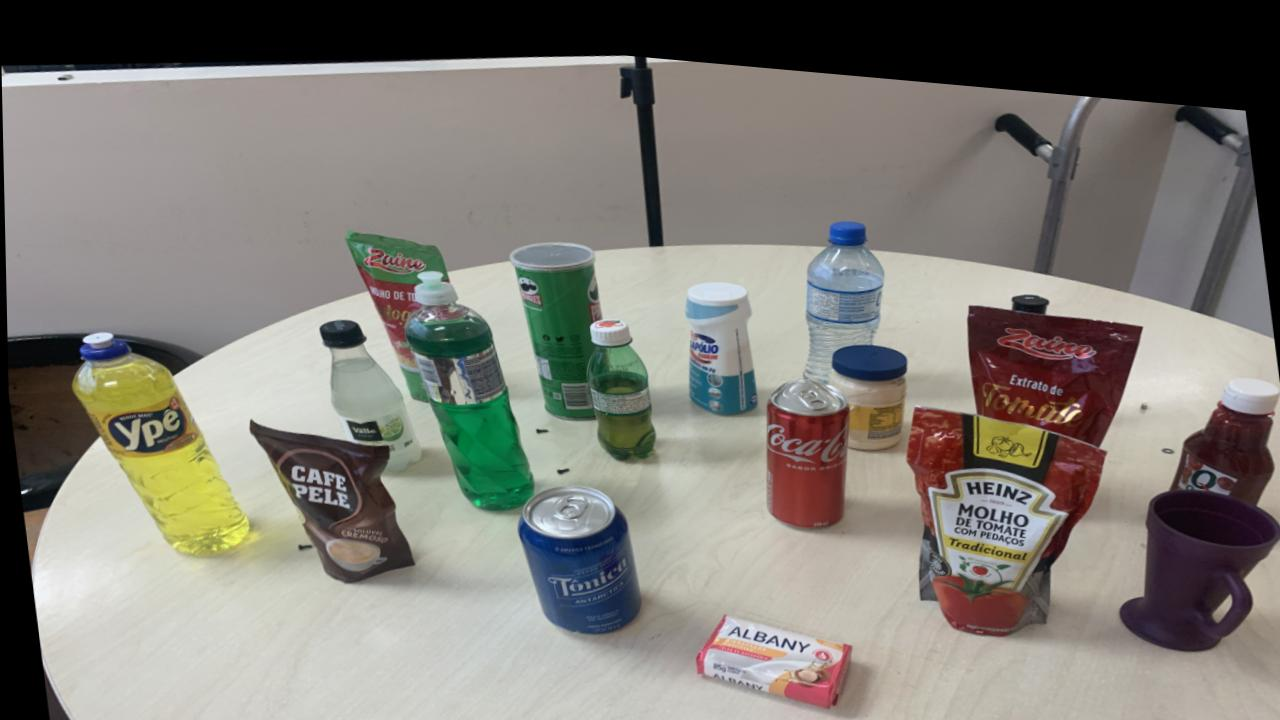Cleaner-Cleanup_Items: (683, 268, 756, 400)
Coffee-Pantry_Items: (247, 417, 410, 576)
Coke-Drinks: (764, 363, 848, 514)
Detergent-Cleanup_Items: (70, 333, 247, 549), (404, 263, 533, 501)
English_Sauce-Pantry_Items: (1010, 274, 1048, 295)
Guarana-Drinks: (585, 308, 654, 449)
Ketchup-Pantry_Items: (1169, 355, 1280, 480)
Mayonnaise-Pantry_Items: (828, 329, 906, 433)
Pringles-Snacks: (510, 230, 600, 409)
Soap-Cleanup_Items: (693, 602, 849, 693)
Soda-Drinks: (320, 313, 420, 463)
Tomato_Sauce-Pantry_Items: (904, 389, 1104, 617), (966, 287, 1141, 425), (344, 223, 445, 392)
Tonic-Drinks: (515, 475, 639, 622)
Trophy-Miscellaneous: (1117, 467, 1280, 629)
Water_Bottle-Drinks: (802, 205, 884, 367)
